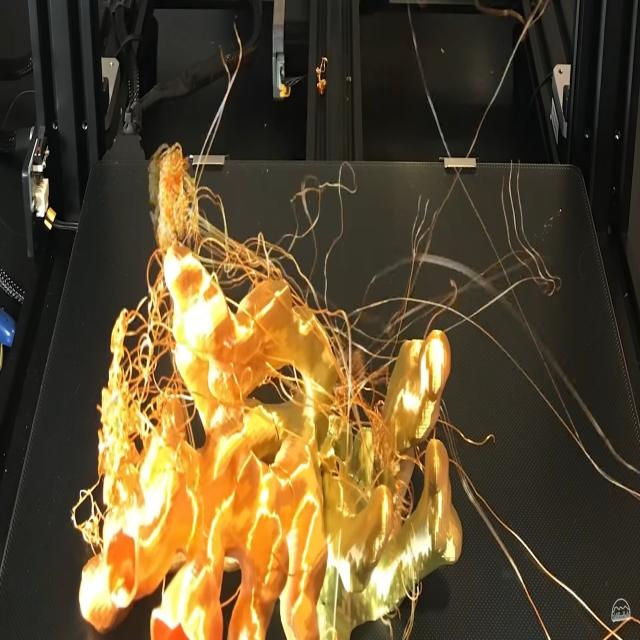spaghetti: (59, 128, 640, 635)
